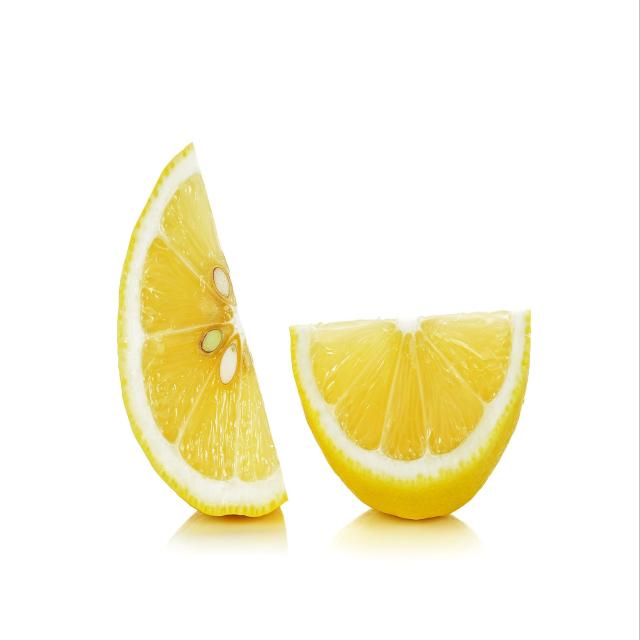lemon: (114, 132, 294, 521), (288, 299, 537, 527)
